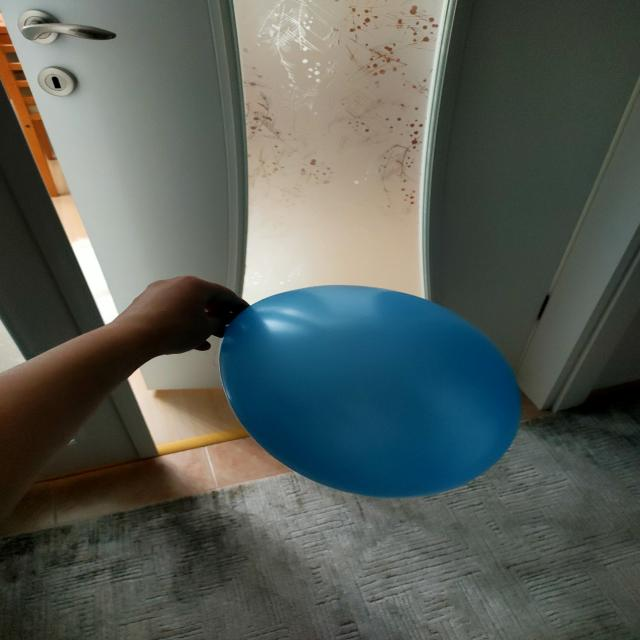blue: (224, 287, 523, 502)
